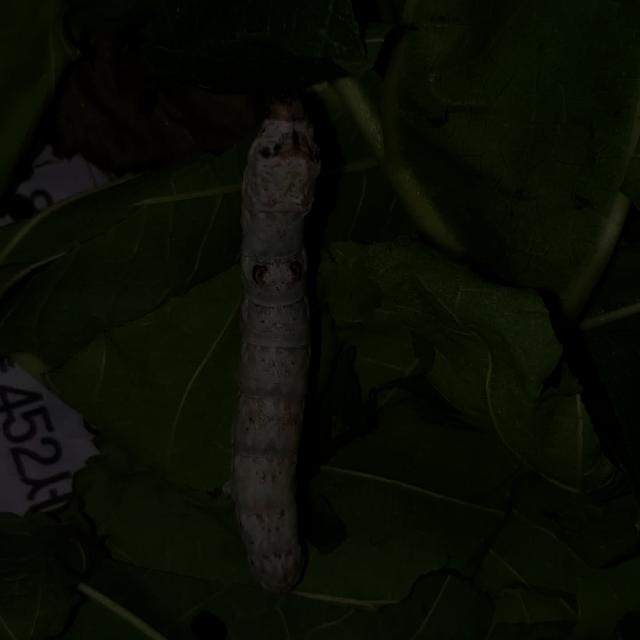Healthy: (214, 86, 344, 596)
